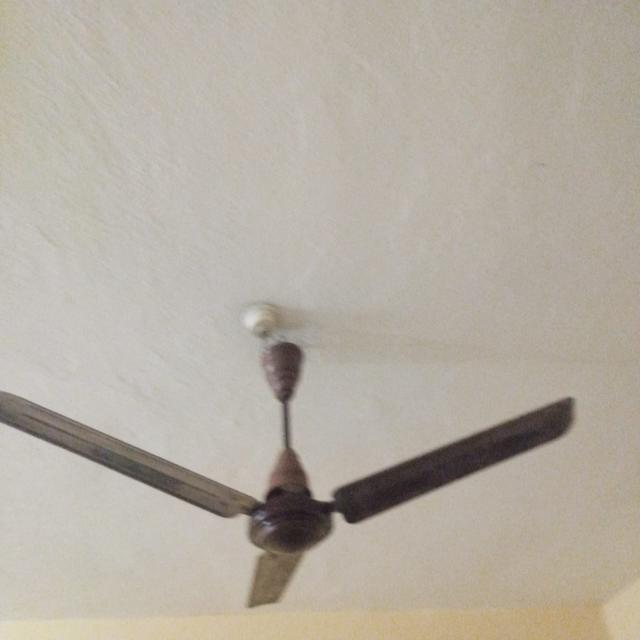fan_off: (0, 344, 577, 607)
